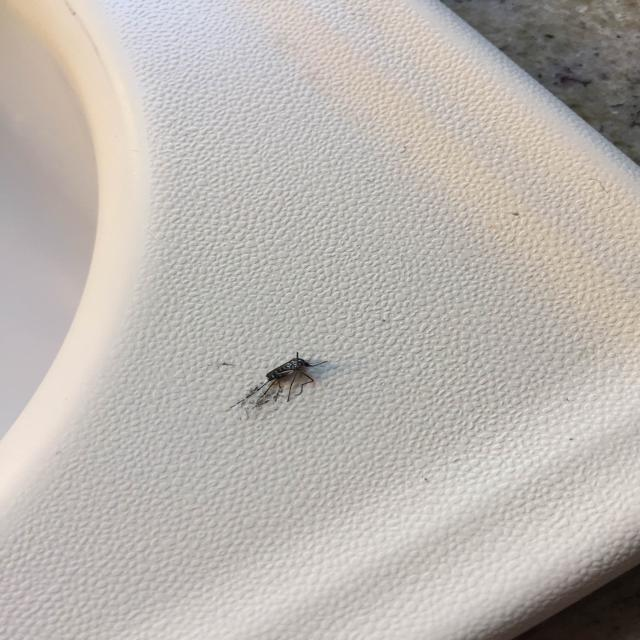albopictus: (220, 345, 338, 417)
